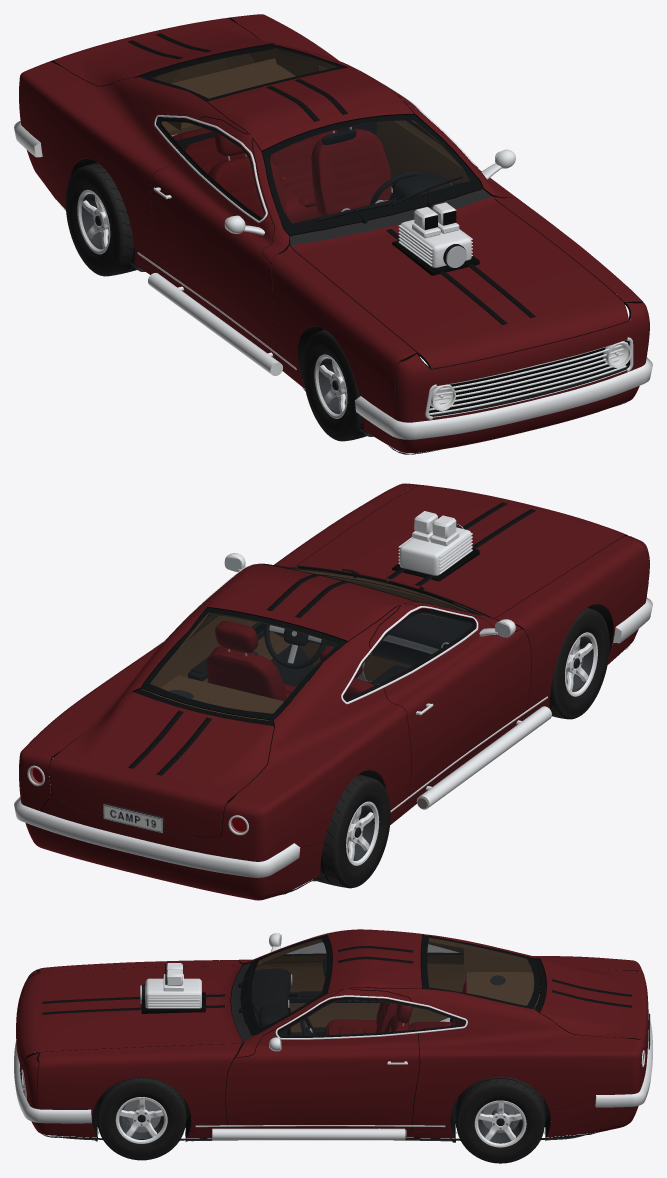
File: supercharged-street-machine.glb
3 views of the same model, one above another, from view 1: azimuth 30°, elevation 25°; view 2: azimuth 150°, elevation 25°; view 3: azimuth 270°, elevation 25° (orthographic). The views are drawn at different scales.
Visible parts, largest first — view 1: Body, Wheel_RR, Wheel_FR; view 2: Body, Wheel_RR, Wheel_FR, Steering_Wheel; view 3: Body, Wheel_RL, Wheel_FL.
Boxes of the visible parts, x1,y1,x2,y2 form: Body: [14, 14, 652, 454]; Wheel_RR: [65, 162, 137, 276]; Wheel_FR: [302, 329, 366, 441]; Body: [14, 483, 652, 900]; Wheel_RR: [312, 774, 390, 888]; Wheel_FR: [549, 607, 609, 719]; Steering_Wheel: [264, 624, 326, 668]; Body: [14, 929, 652, 1142]; Wheel_RL: [455, 1076, 545, 1163]; Wheel_FL: [96, 1077, 186, 1160].
Bounding box in the file's own units: 2.04 × 1.38 × 4.97.
54 materials, 11 textured.
